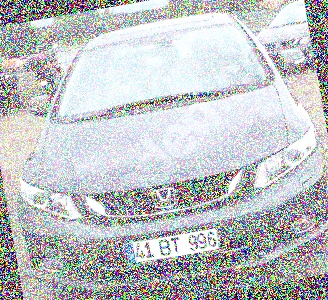plaka: (131, 229, 217, 261)
